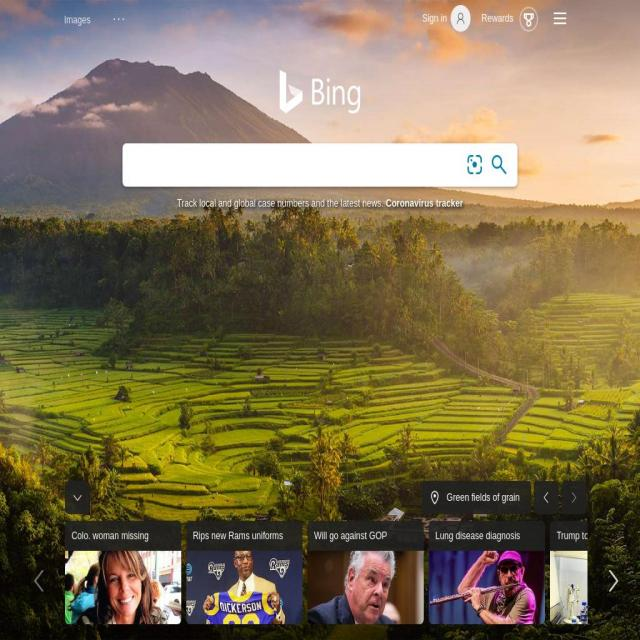login-option: (418, 0, 478, 37)
navigation-blocks: (55, 513, 617, 640)
navigation-links: (55, 8, 103, 32)
options: (109, 8, 131, 34), (550, 3, 568, 32)
search: (114, 130, 534, 218)
